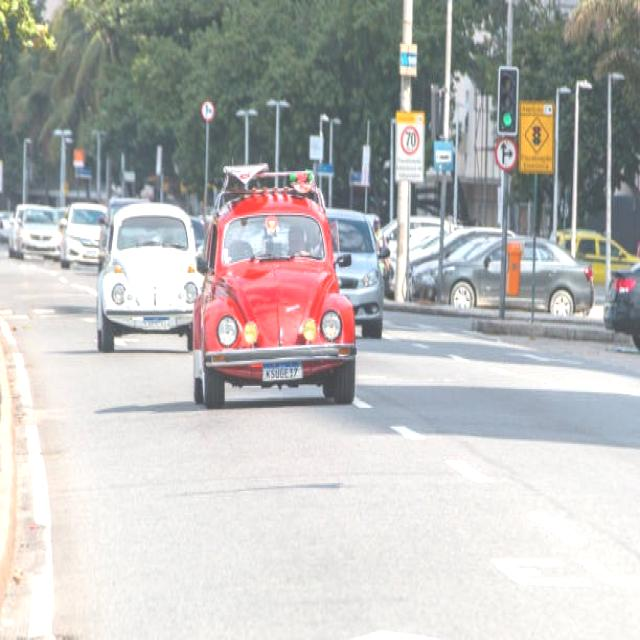car: (193, 183, 357, 408), (94, 196, 205, 344), (16, 200, 62, 265), (64, 204, 111, 264)
